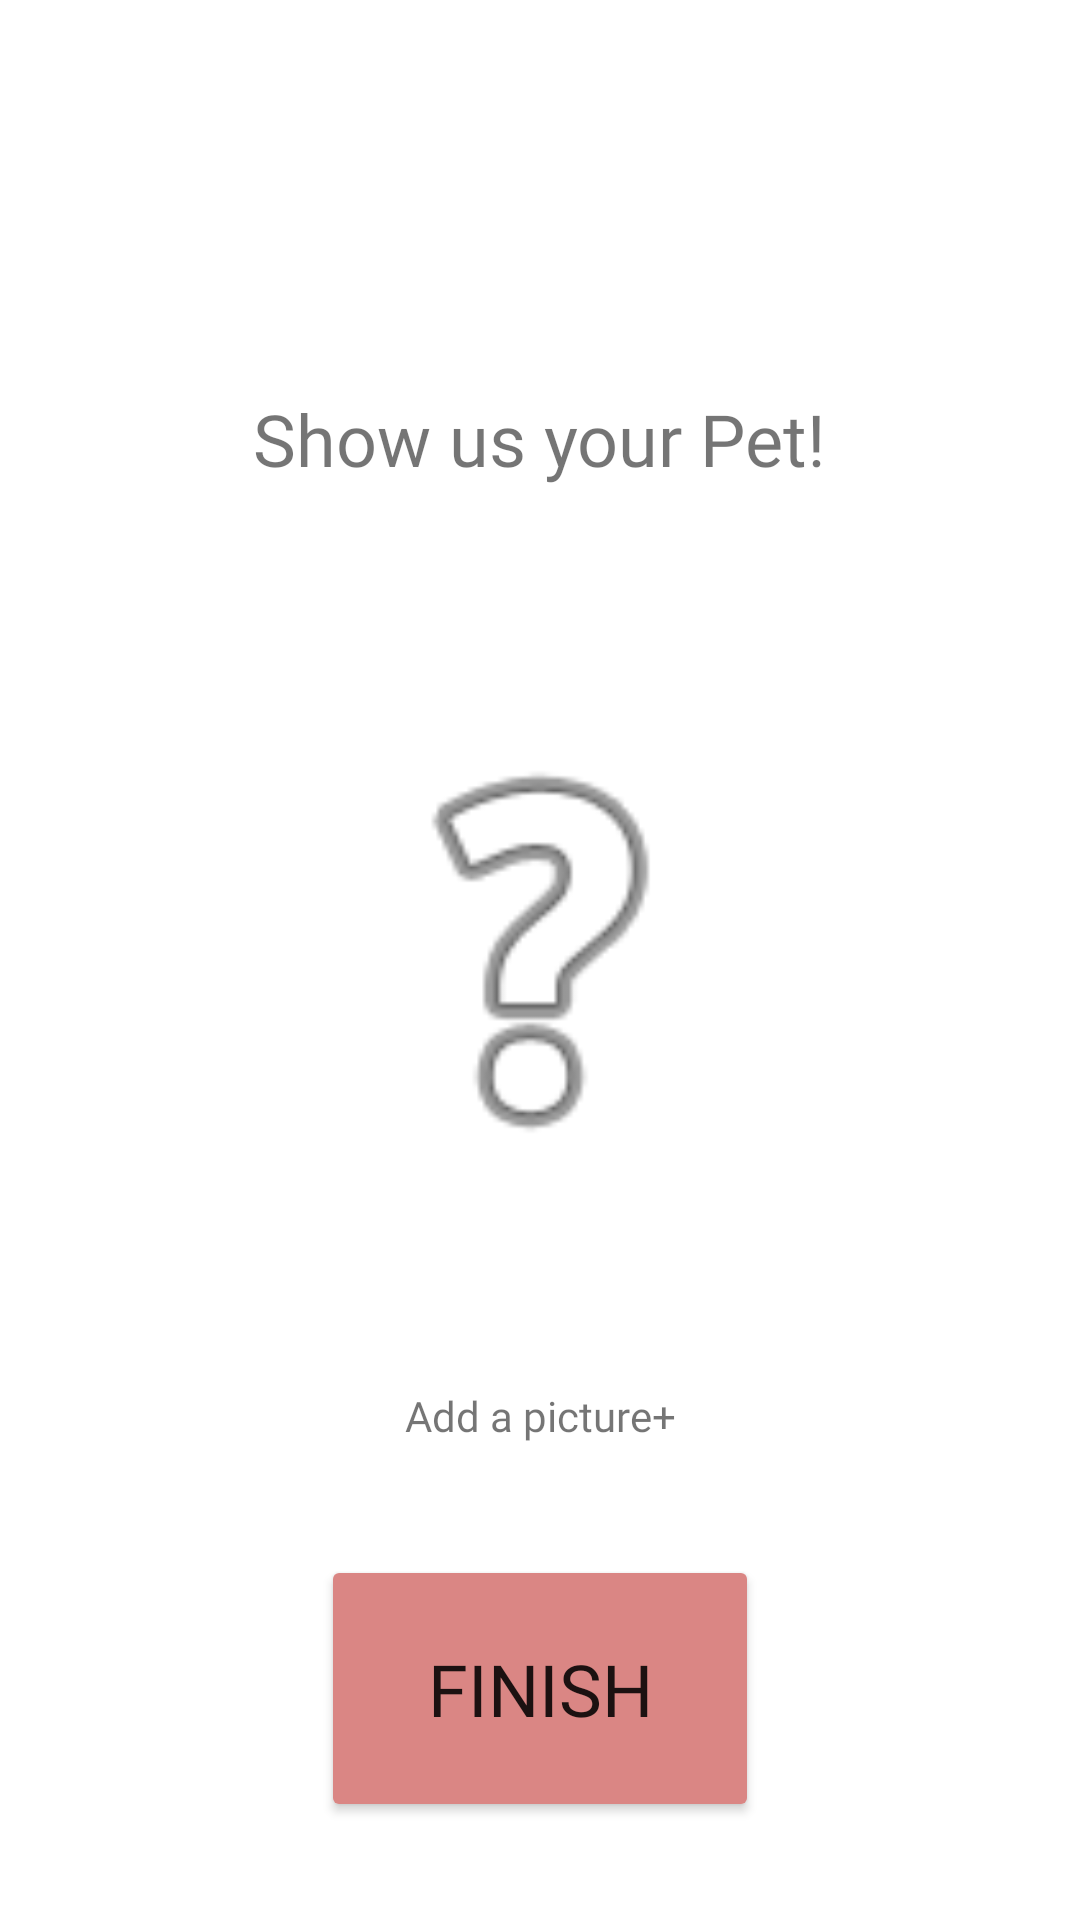

Where icons sit on this 1080px×1920px app screen, as (x1=x1, y1=y1, x2=x2, y2=y2):
help: (x1=432, y1=775, x2=649, y2=1129)
